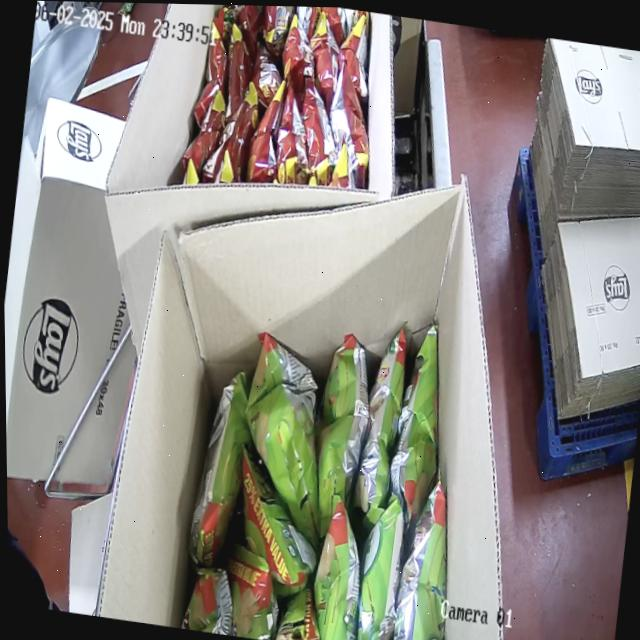MASALA: (169, 4, 384, 214)
YOGURT_HERB: (171, 294, 478, 640)
